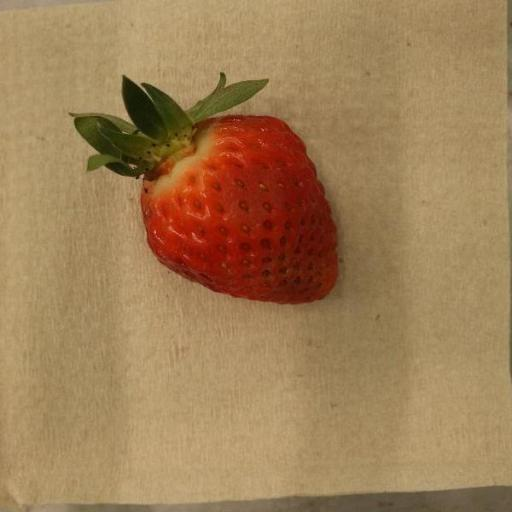Strawberry: (70, 73, 338, 306)
